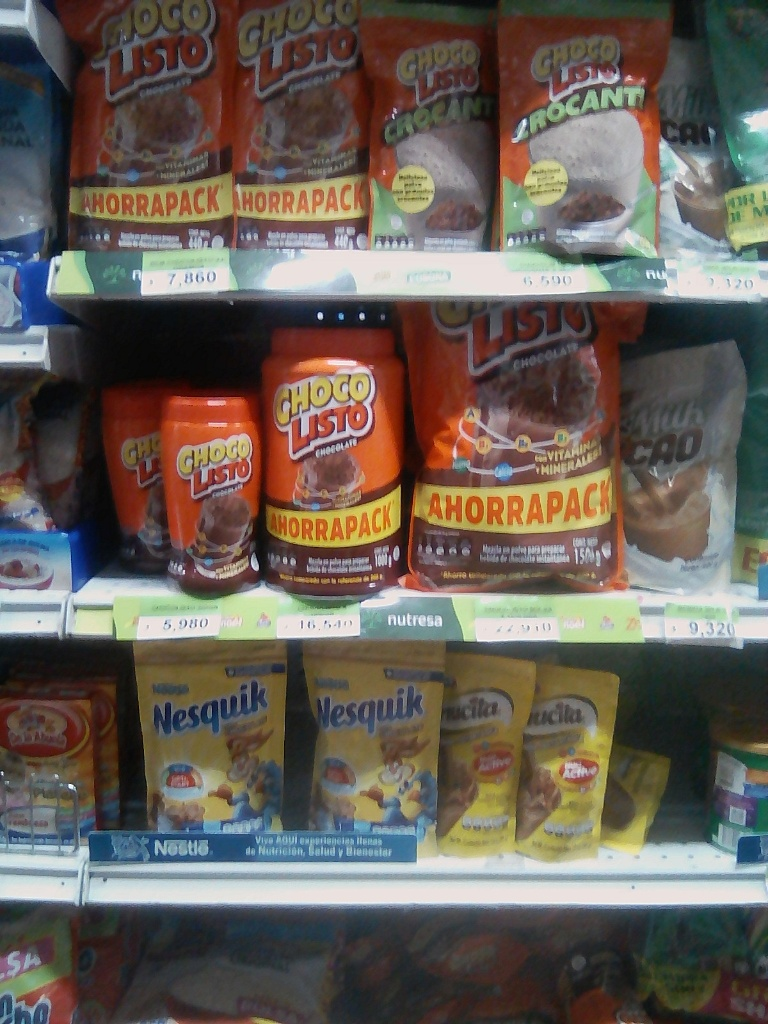COL0170103DYP44000: (58, 0, 250, 253)
COL0170103TRR00100: (263, 325, 408, 599)
COL0170303DYP20000: (130, 639, 291, 831)
